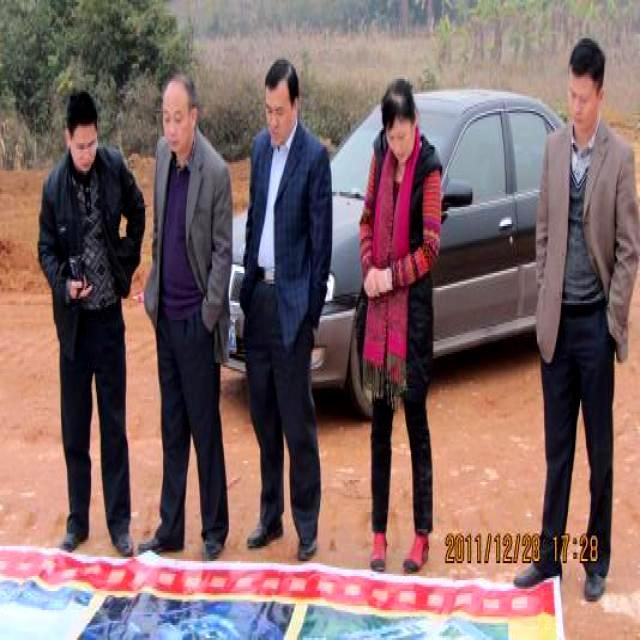no_head_wear: (570, 38, 604, 87), (381, 79, 415, 124), (65, 90, 97, 137), (266, 58, 298, 100), (162, 73, 198, 109)
person: (514, 38, 639, 599), (38, 90, 143, 555), (240, 58, 331, 559), (139, 75, 231, 557), (360, 79, 441, 572)
